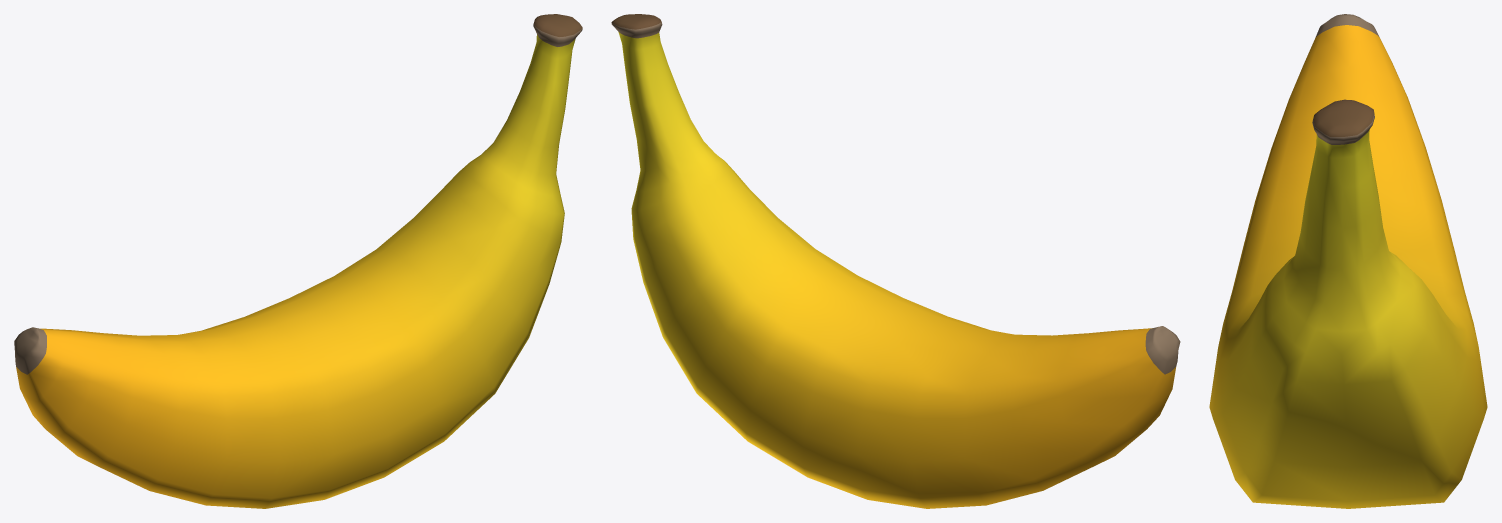
File: Banana.fbx
3 views of the same model, side by side, from view 1: azimuth 30°, elevation 25°; view 2: azimuth 150°, elevation 25°; view 3: azimuth 270°, elevation 25° (orthographic). The views are drawn at different scales.
Parts seen in each view (by area): view 1: Cube.025; view 2: Cube.025; view 3: Cube.025.
Part boxes in pixels (x1,y1,x2,y2): Cube.025: [14, 14, 582, 508]; Cube.025: [611, 14, 1180, 508]; Cube.025: [1209, 14, 1487, 508].
Bounding box in the file's own units: 2.84 × 1.92 × 0.9096.
